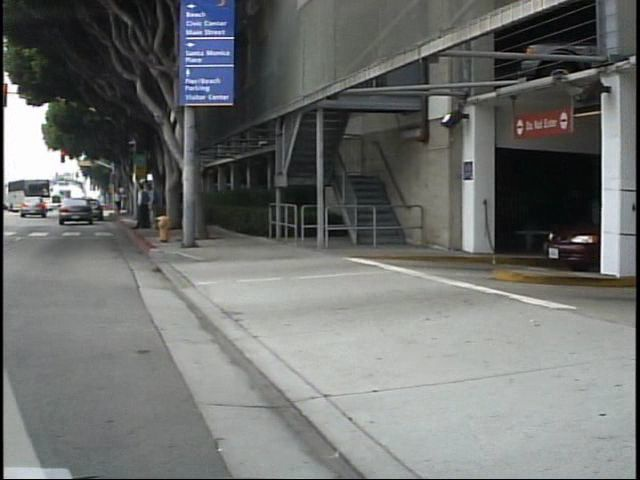person: (108, 185, 124, 219)
